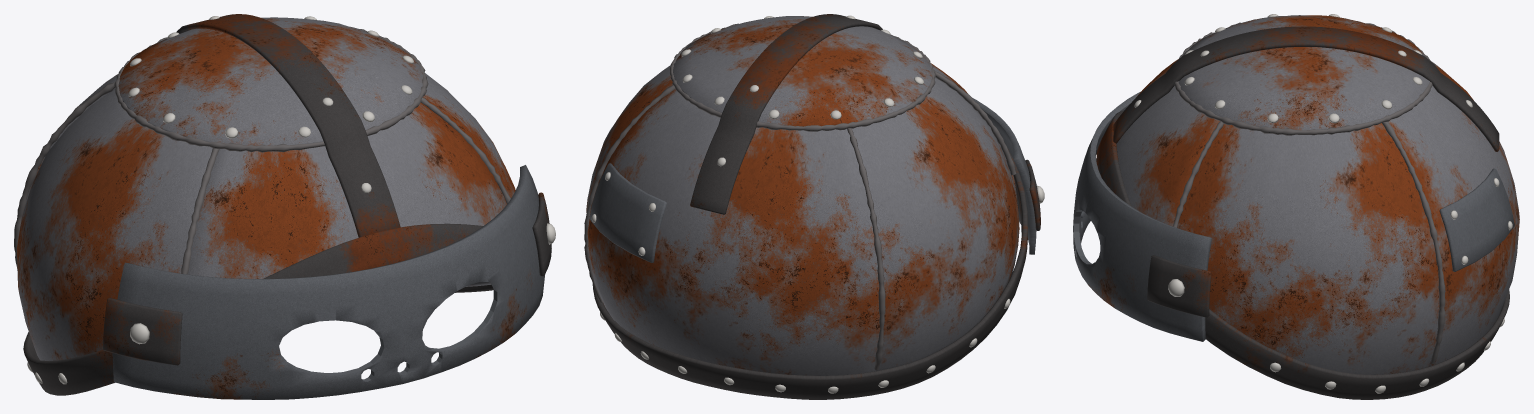
The model's file is MetalHelmet.fbx.
3 renders of one model, left to right at view 1: azimuth 30°, elevation 25°; view 2: azimuth 150°, elevation 25°; view 3: azimuth 270°, elevation 25°, orthographic. The views are drawn at different scales.
Parts seen in each view (by area): view 1: Faceplate, Plate_Side_R, Plate_Front, Plate_Crown, Crown_Strip, Rim_Band, Hinge_Plate_R, Weld_Crown_Ring, Plate_Side_L, Weld_Back_R, Hinge_Plate_L, Weld_Front_R (+1 smaller); view 2: Plate_Back, Plate_Side_R, Plate_Crown, Rim_Band, Crown_Strip, Scrap_Patch, Weld_Crown_Ring, Plate_Side_L, Faceplate, Weld_Back_R, Weld_Back_L, Weld_Front_R (+1 smaller); view 3: Plate_Side_L, Plate_Crown, Plate_Back, Faceplate, Rim_Band, Crown_Strip, Plate_Front, Scrap_Patch, Hinge_Plate_L, Weld_Crown_Ring, Weld_Back_L, Weld_Front_L.
Part boxes in pixels (<box>): Faceplate: <box>112,165,544,399</box>; Plate_Side_R: <box>17,90,212,360</box>; Plate_Front: <box>187,102,506,278</box>; Plate_Crown: <box>118,17,422,145</box>; Crown_Strip: <box>176,14,400,237</box>; Rim_Band: <box>23,223,493,395</box>; Hinge_Plate_R: <box>102,298,182,365</box>; Weld_Crown_Ring: <box>114,26,428,152</box>; Plate_Side_L: <box>423,73,515,286</box>; Weld_Back_R: <box>14,81,115,270</box>; Hinge_Plate_L: <box>532,192,551,276</box>; Weld_Front_R: <box>181,148,219,274</box>; Plate_Back: <box>587,89,880,375</box>; Plate_Side_R: <box>852,78,1019,370</box>; Plate_Crown: <box>673,16,932,126</box>; Rim_Band: <box>592,142,1027,399</box>; Crown_Strip: <box>690,14,882,214</box>; Scrap_Patch: <box>589,163,666,262</box>; Weld_Crown_Ring: <box>669,23,935,131</box>; Plate_Side_L: <box>586,65,672,212</box>; Faceplate: <box>972,97,1036,254</box>; Weld_Back_R: <box>847,128,885,370</box>; Weld_Back_L: <box>584,85,675,302</box>; Weld_Front_R: <box>934,70,1016,175</box>; Plate_Side_L: <box>1177,123,1439,374</box>; Plate_Crown: <box>1178,15,1429,130</box>; Plate_Back: <box>1388,61,1519,366</box>; Faceplate: <box>1073,91,1212,341</box>; Rim_Band: <box>1096,111,1509,399</box>; Crown_Strip: <box>1113,26,1499,151</box>; Plate_Front: <box>1116,59,1219,226</box>; Scrap_Patch: <box>1439,168,1514,271</box>; Hinge_Plate_L: <box>1147,255,1211,317</box>; Weld_Crown_Ring: <box>1174,15,1432,135</box>; Weld_Back_L: <box>1382,121,1445,364</box>; Weld_Front_L: <box>1173,121,1223,227</box>.
Bounding box in the file's own units: 39.79 × 28.18 × 38.93.
Materials: 5 (3 with a texture image).
